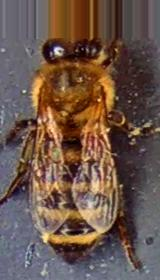varroa_mite: (73, 128, 112, 166)
